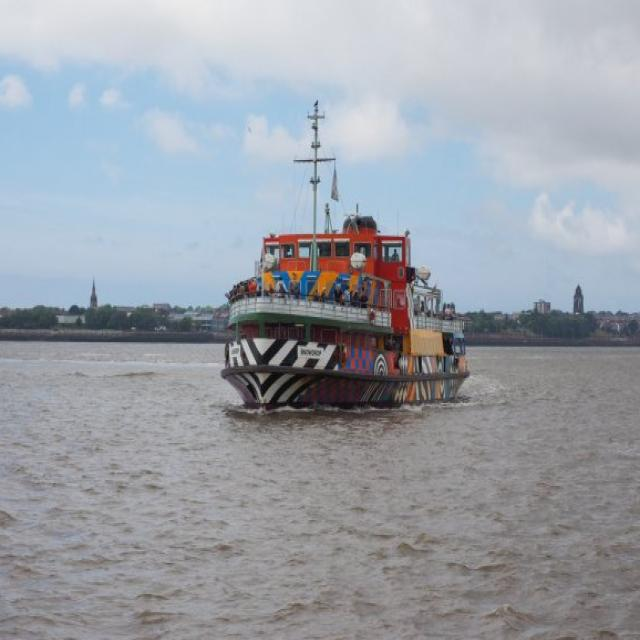houseboat: (217, 129, 471, 411)
